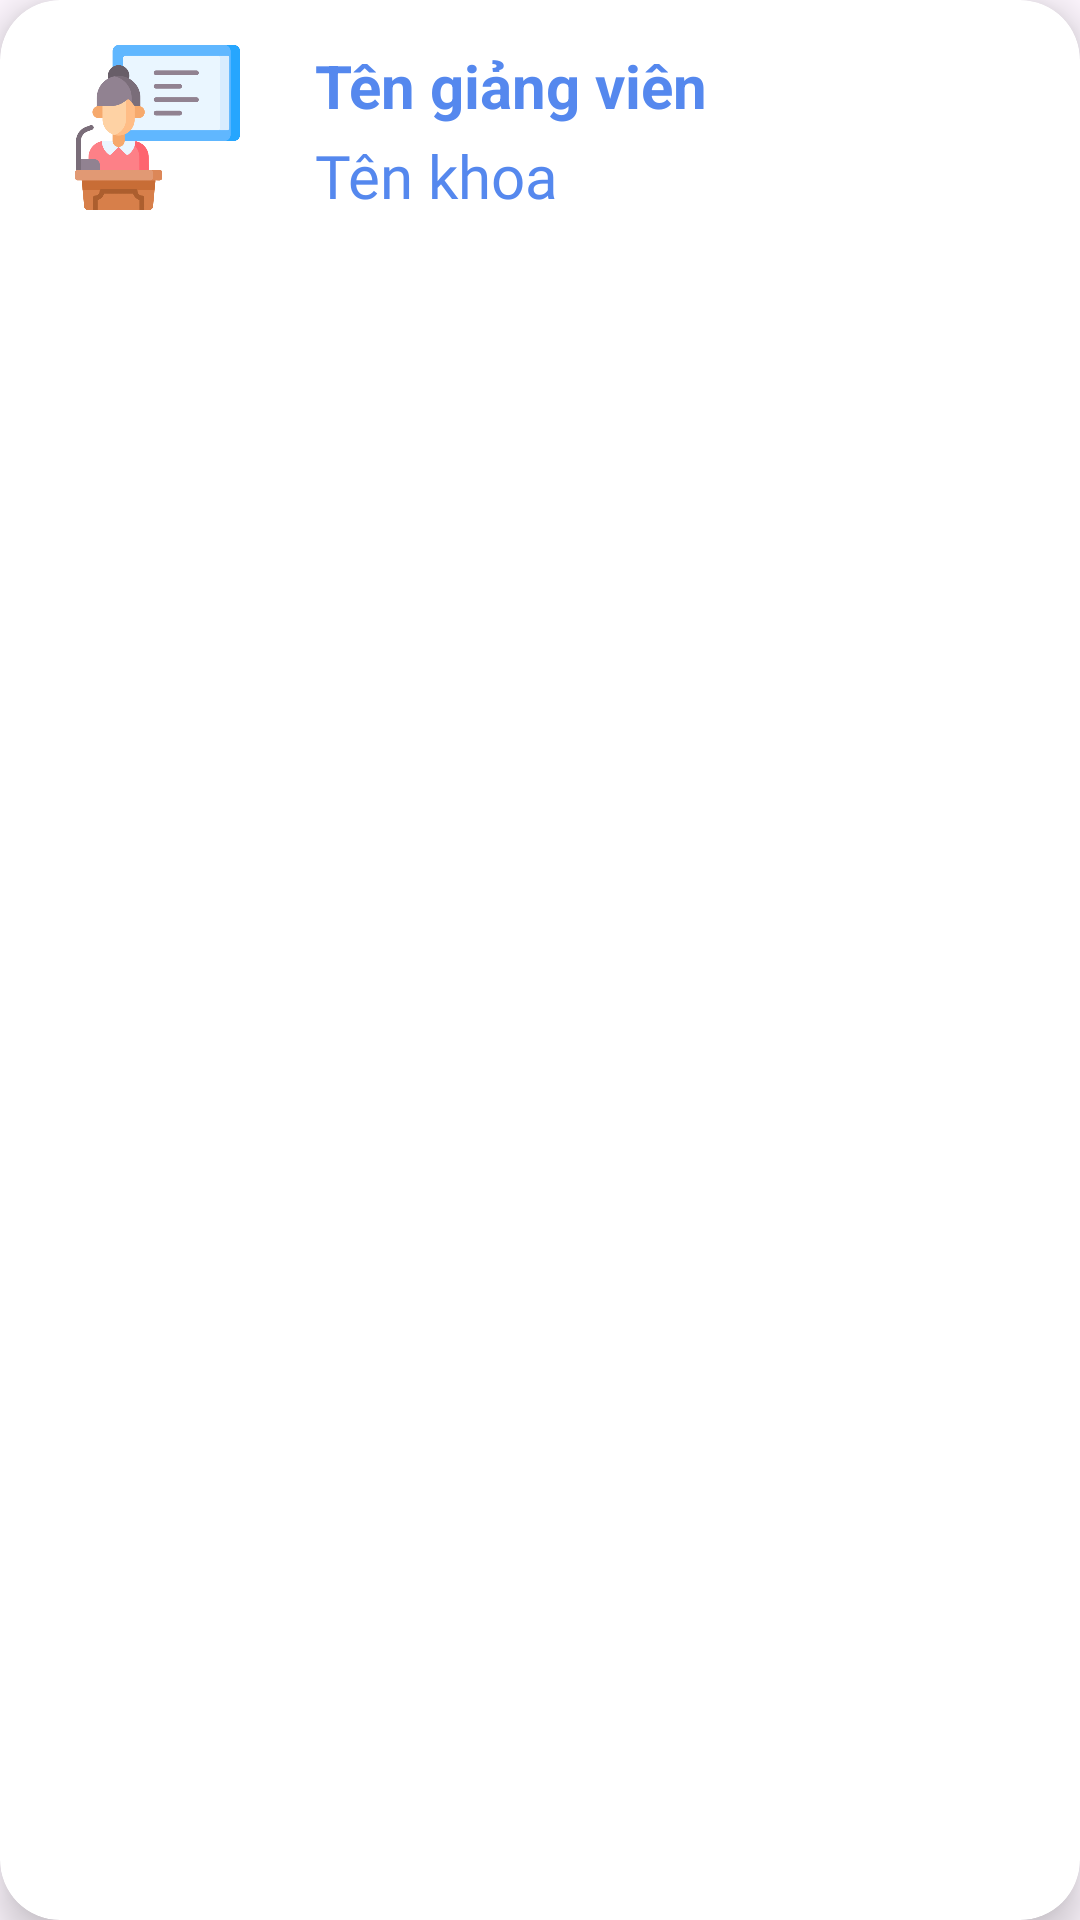

Icons on this 1080 × 1920 Android screen, each with the point to tap as point (x, y):
lecturer: point (157, 127)
